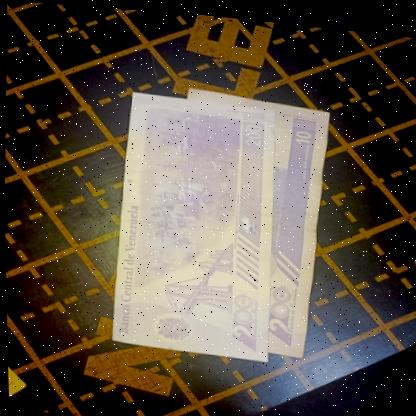ten-back-vef: (258, 97, 334, 356)
two_hundred-back-vef: (105, 88, 279, 358)
